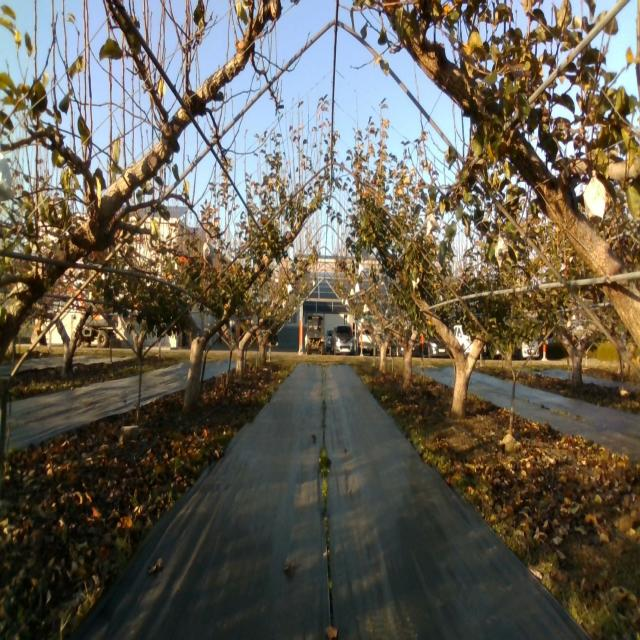pearbags: (582, 170, 606, 219), (494, 232, 508, 268), (204, 238, 214, 268), (427, 214, 440, 235)
